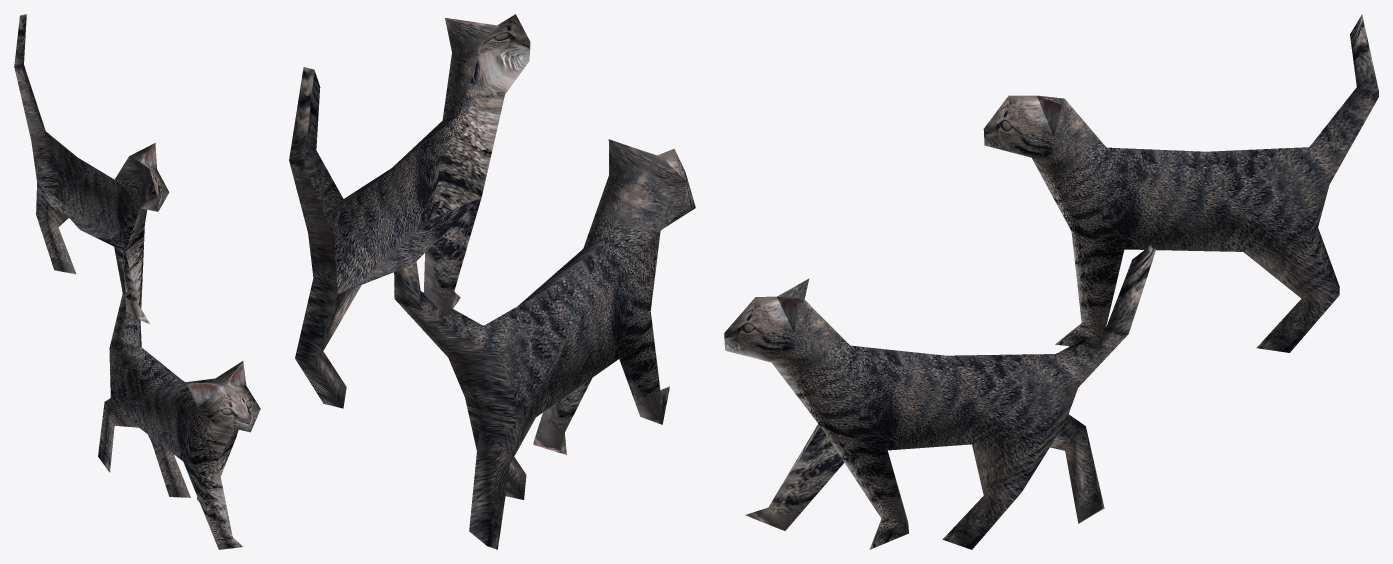
Rendered from gato.gltf.
3 renders of one model, left to right at view 1: azimuth 30°, elevation 25°; view 2: azimuth 150°, elevation 25°; view 3: azimuth 270°, elevation 25°, orthographic. The views are drawn at different scales.
Visible parts, largest first — view 1: Cube.001, Cube; view 2: Cube.001, Cube; view 3: Cube.001, Cube.
Boxes of the visible parts, x1,y1,x2,y2 form: Cube.001: [98, 229, 260, 549]; Cube: [14, 14, 169, 324]; Cube.001: [394, 139, 695, 549]; Cube: [289, 14, 530, 408]; Cube.001: [724, 244, 1155, 549]; Cube: [983, 14, 1378, 352].
Size of the model in its own units: 0.7205 by 3.76 by 4.27.
2 materials, 2 textured.
